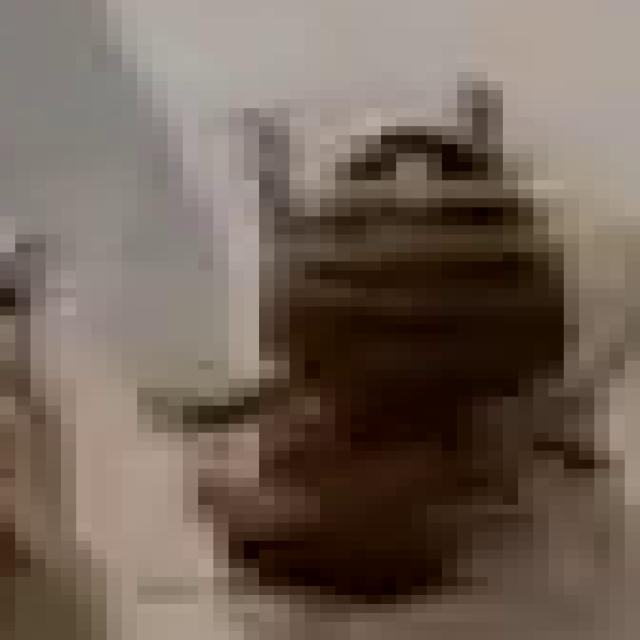honeybee: (216, 130, 598, 600)
